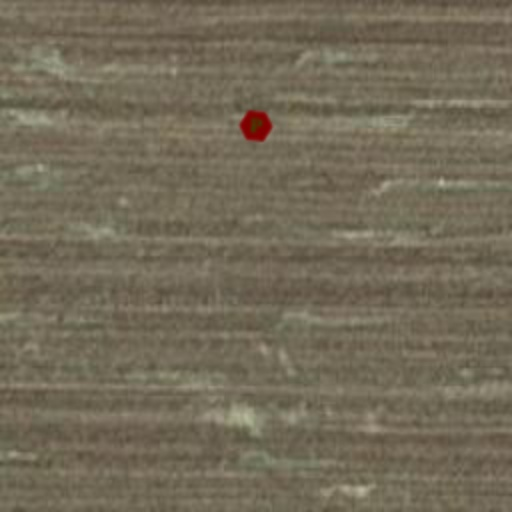hexagon: (236, 106, 276, 146)
